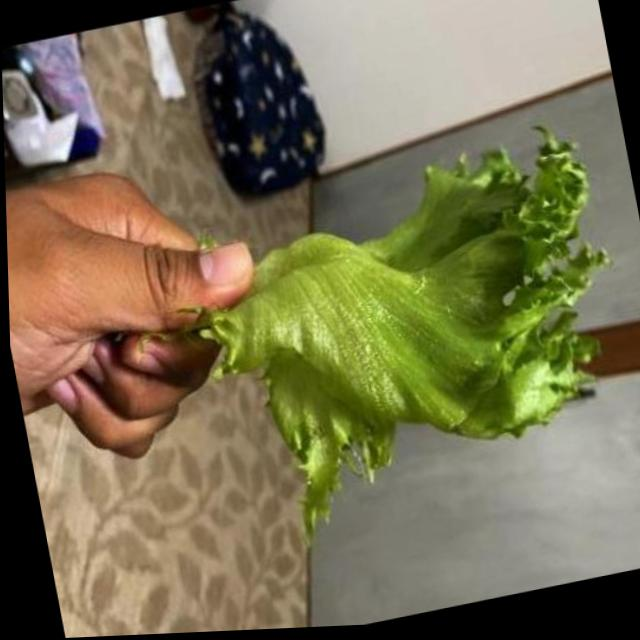Mature: (199, 125, 610, 537)
